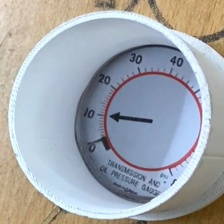gauge: (75, 44, 202, 204)
